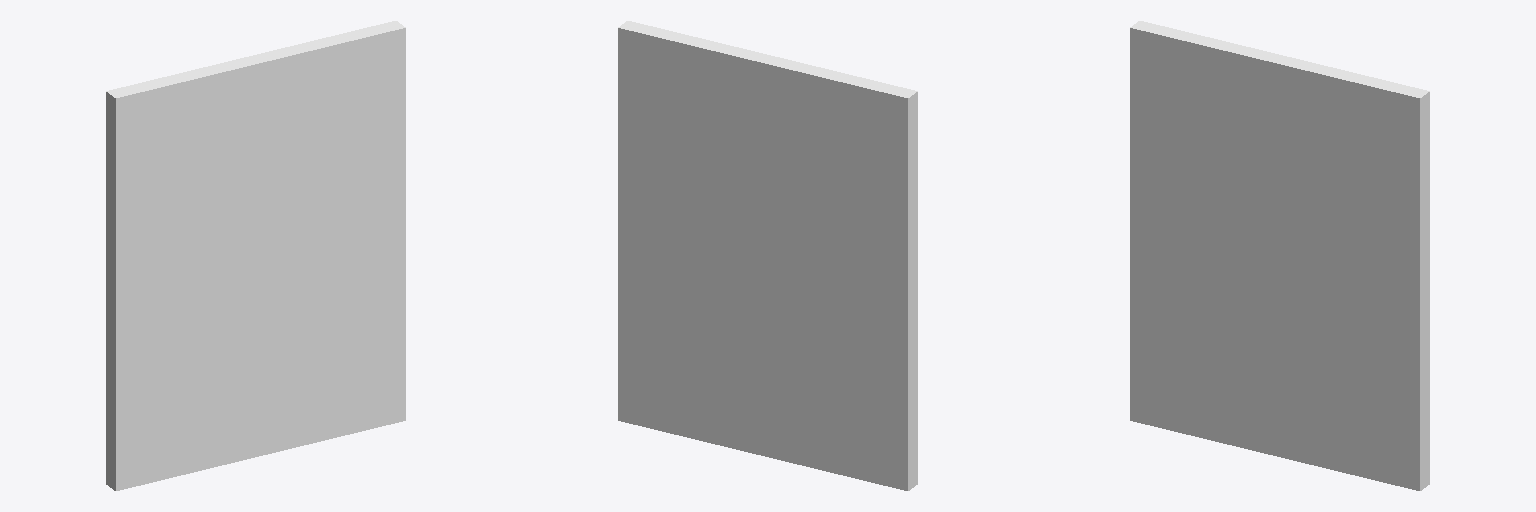
URDF robot description (mesh):
<?xml version="1.0" ?>
<robot name="mesh">
  <link name="baselink">
    <inertial>
      <origin rpy="0 0 0" xyz="0 0 0"/>
       <mass value=".0"/>
       <inertia ixx="0" ixy="0" ixz="0" iyy="0" iyz="0" izz="0"/>
    </inertial>
    <visual>
      <origin rpy="1.5707963 0 0" xyz="0 0 0"/>
      <geometry>
      	<mesh filename="package://robots/meshes/visual/apriltag_id0.obj" scale="1 1 1"/>
      </geometry>
       <material name="white">
        <color rgba="1 1 1 1"/>
      </material>
    </visual>
    <collision concave="yes">
      <origin rpy="1.5707963 0 0" xyz="0 0 0"/>
     <geometry>
	      <mesh filename="package://robots/meshes/visual/apriltag_id0.obj" scale="1 1 1"/>
      </geometry>
    </collision>
  </link>
</robot>

--- What the picture shows (computed from the rendered views, not written in the file) ---
The picture shows the robot from 3 angles, left to right: view 1: azimuth 30°, elevation 25°; view 2: azimuth 150°, elevation 25°; view 3: azimuth 330°, elevation 25°; orthographic projection.
Model mesh with 1 links and 0 joints (none), rooted at baselink, posed every joint at zero.
Links seen in each view (by area): view 1: baselink; view 2: baselink; view 3: baselink.
Link boxes in pixels (x1,y1,x2,y2): baselink: (106,21,405,490); baselink: (618,21,917,490); baselink: (1130,21,1429,490).
Size in the robot's own frame: 0.17 by 0.01 by 0.22 metres.
1 mesh visuals loaded from 1 distinct referenced files (1 OBJ).